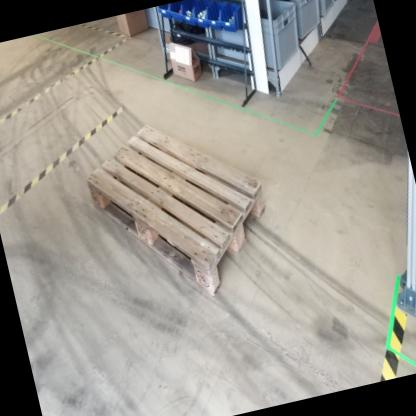BoxFace: (81, 117, 268, 311)
